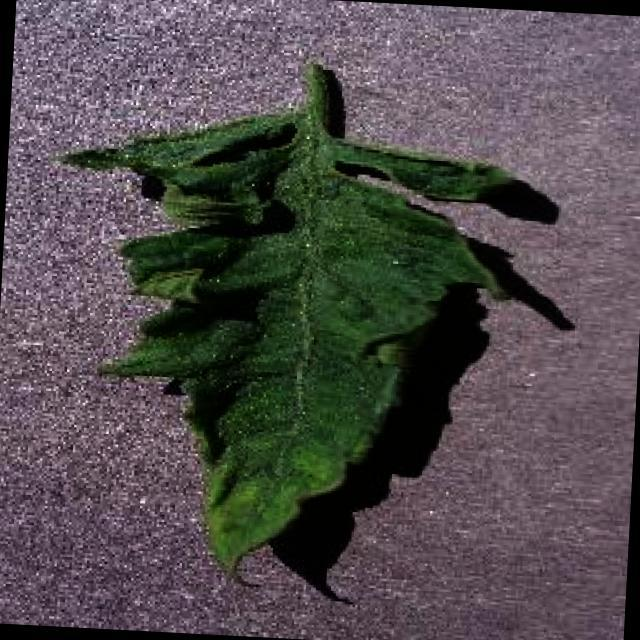Tomato mosaic virus leaf: (38, 103, 532, 600)
